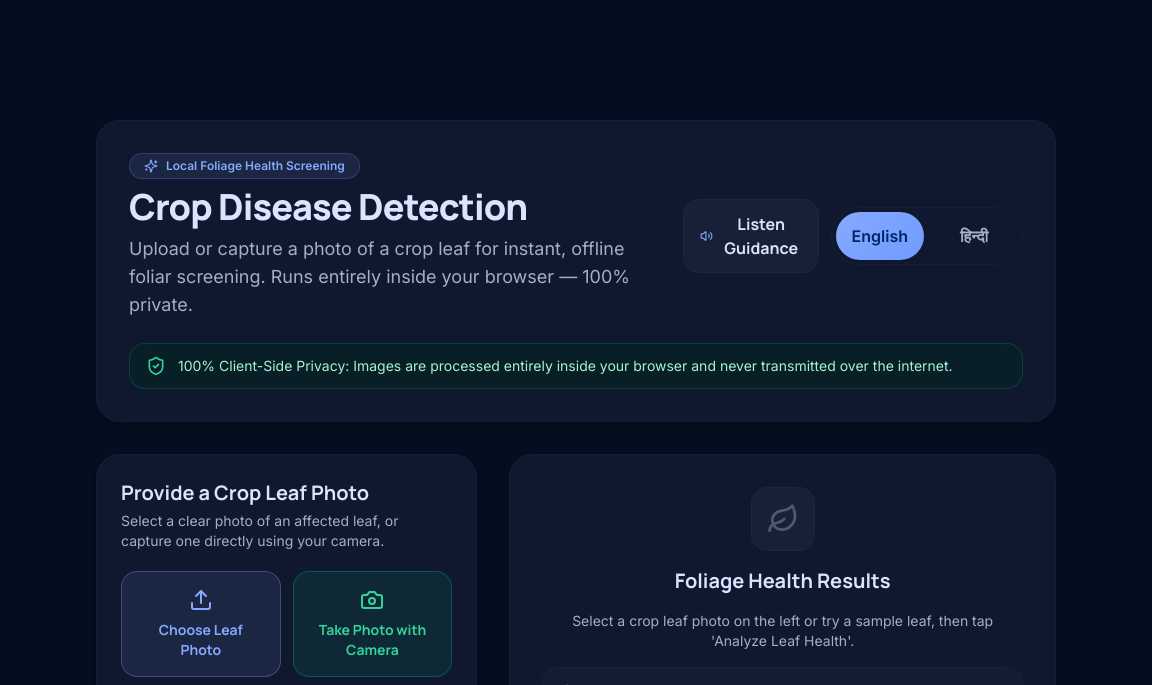
Scenario: Phase 1 — Feature 5: Basic Crop Disease Detection Prototype › UI Component Tests: Rendering, Interaction, and Accessibility › supports switching to Hindi across the Crop Disease interface
This screenshot has width=1152, height=685.
Expected: the heading "Crop Disease Detection" is shown, [129,182,527,231]
# Click Hindi toggle button
Click the button "हिन्दी". click: (974, 236)
box: [930,212,1018,260]
(page scrolled)
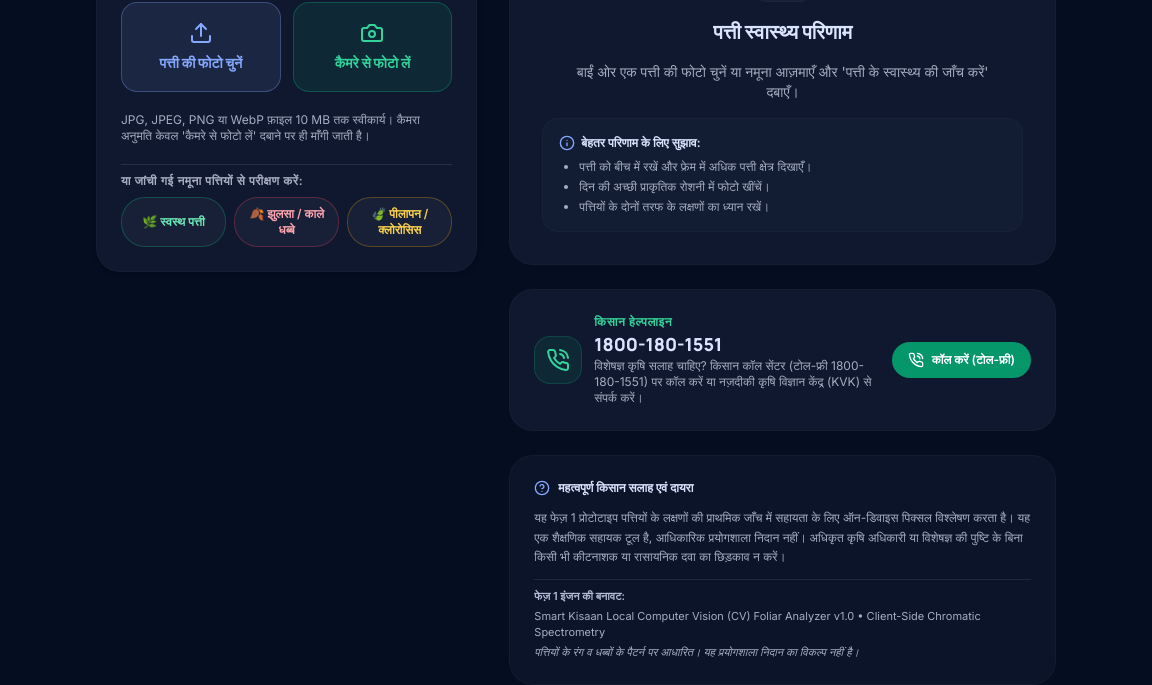
Now the text "पत्ती की फोटो चुनें" is shown, box [160,53,242,73]
Now the text "कैमरे से फोटो लें" is shown, box [335,53,410,73]
Now the text "या जांची गई नमूना पत्तियों से परीक्षण करें:" is shown, box [121,173,303,188]
